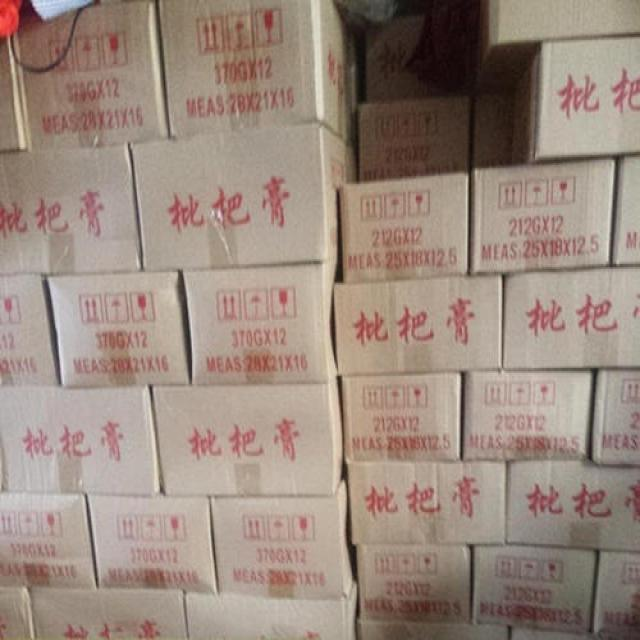box: (129, 123, 358, 270), (159, 0, 352, 146), (12, 2, 169, 152), (154, 381, 343, 496), (183, 261, 343, 386), (0, 144, 142, 275), (0, 386, 161, 496), (334, 274, 502, 378), (212, 480, 356, 600), (46, 270, 191, 389), (470, 158, 616, 275), (512, 37, 640, 160), (339, 171, 468, 283), (502, 267, 640, 371), (346, 461, 508, 546), (87, 494, 216, 594), (462, 370, 593, 464), (507, 461, 640, 550), (340, 373, 462, 461), (474, 546, 594, 635), (186, 581, 356, 640), (0, 491, 99, 590), (358, 96, 470, 181), (484, 0, 640, 58), (356, 546, 470, 622), (28, 587, 188, 640), (0, 274, 61, 387), (365, 16, 438, 102), (591, 368, 640, 466), (593, 550, 640, 638), (0, 38, 27, 154), (612, 157, 640, 266), (474, 90, 512, 168), (360, 622, 508, 640), (0, 587, 36, 640), (511, 627, 589, 640)
